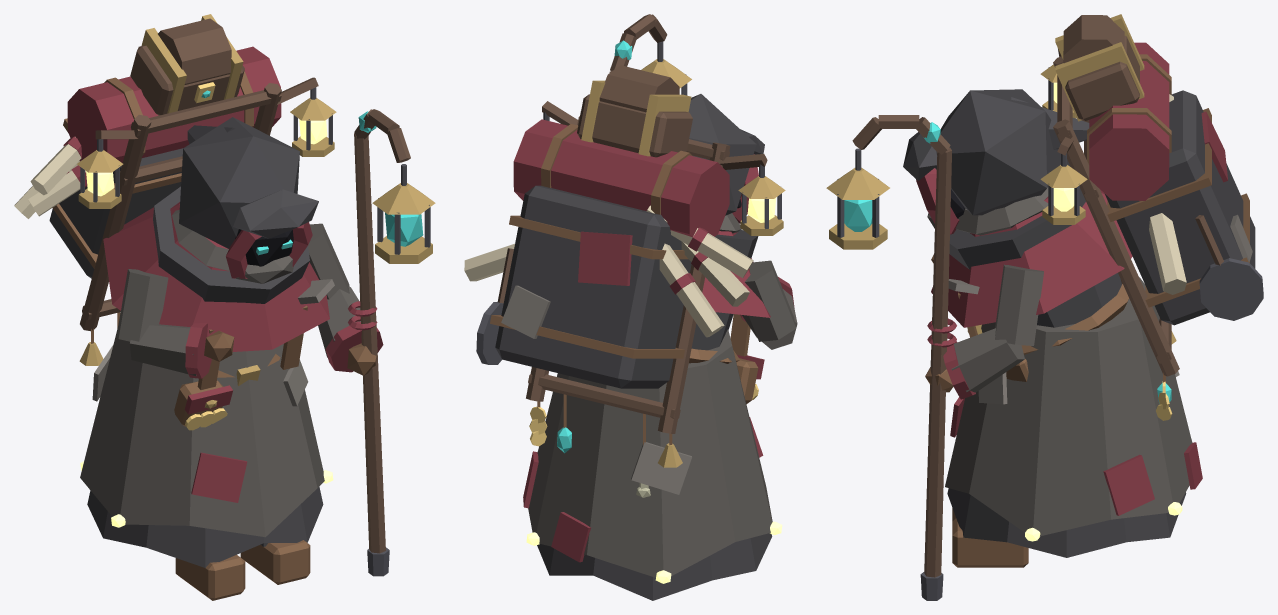
Rendered from SH10_NPC_WanderingMerchant.fbx.
3 views of the same model, side by side, from view 1: azimuth 30°, elevation 25°; view 2: azimuth 150°, elevation 25°; view 3: azimuth 270°, elevation 25° (orthographic).
Parts seen in each view (by area): view 1: SH10_NPC_WanderingMerchant; view 2: SH10_NPC_WanderingMerchant; view 3: SH10_NPC_WanderingMerchant.
Boxes of the visible parts, box(x1,y1,x2,y2) form: SH10_NPC_WanderingMerchant: box(14, 14, 435, 600); SH10_NPC_WanderingMerchant: box(464, 14, 797, 600); SH10_NPC_WanderingMerchant: box(826, 14, 1263, 600).
Bounding box in the file's own units: 1.23 × 2.25 × 1.72.
